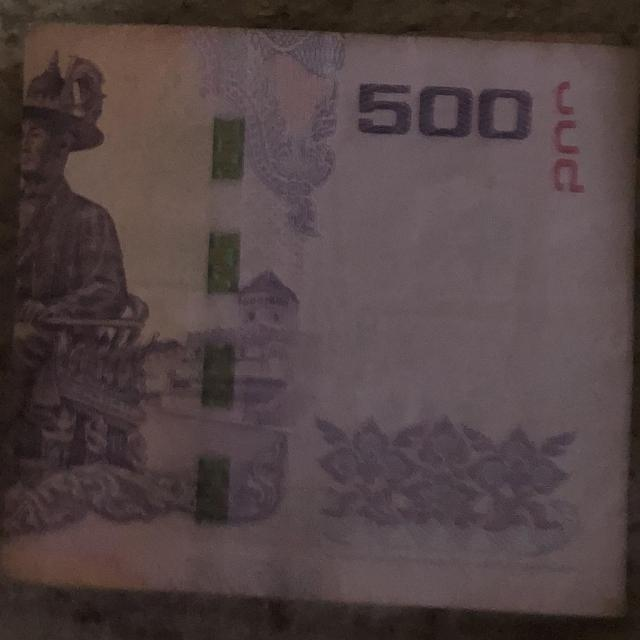THAI500: (0, 24, 639, 616)
